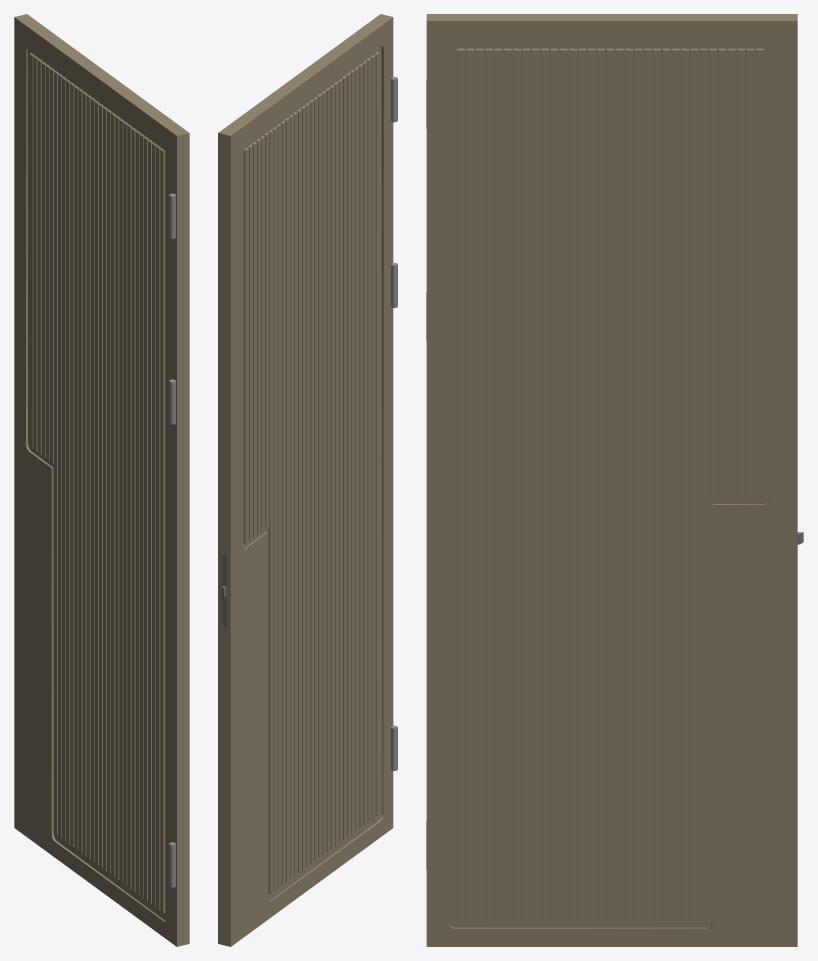
File: 77_TEXAS_Door.glb
The picture shows the model from 3 angles, left to right: view 1: azimuth 30°, elevation 25°; view 2: azimuth 150°, elevation 25°; view 3: azimuth 270°, elevation 25°; orthographic projection. The views are drawn at different scales.
Visible parts, largest first — view 1: 77_TEXAS_Door; view 2: 77_TEXAS_Door; view 3: 77_TEXAS_Door.
Part boxes in pixels (left/top/right/bottom): 77_TEXAS_Door: left=14, top=14, right=189, bottom=946; 77_TEXAS_Door: left=218, top=14, right=397, bottom=946; 77_TEXAS_Door: left=426, top=14, right=803, bottom=946.
Bounding box in the file's own units: 0.052 × 2.2 × 0.8129.
